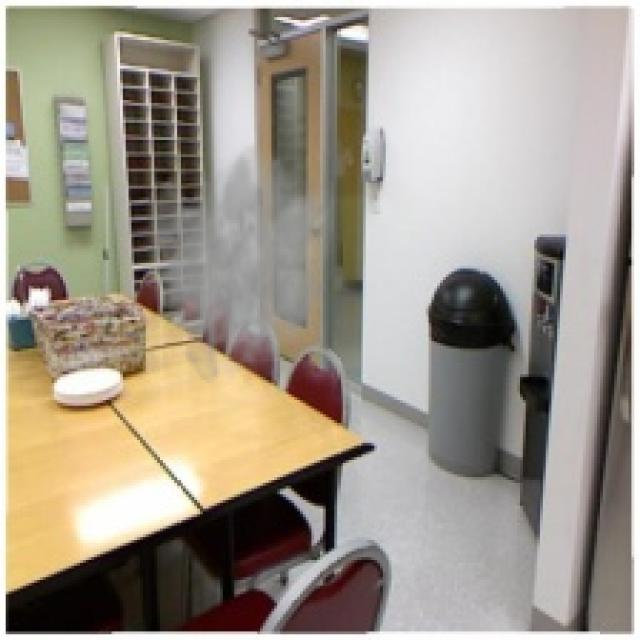smoke: (134, 140, 334, 389)
